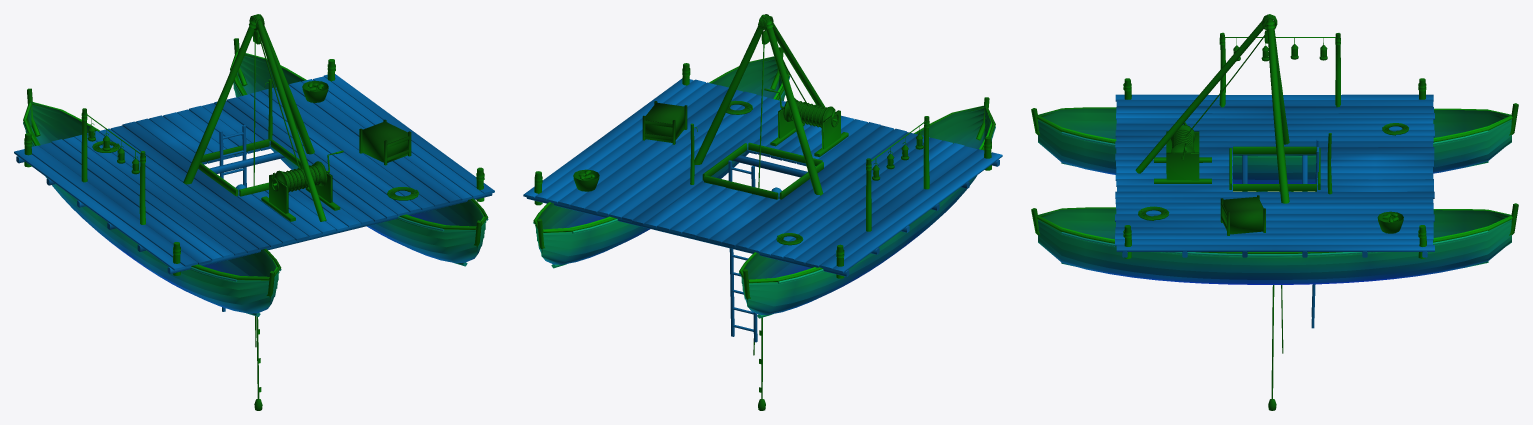
Rendered from dive_raft.glb.
3 views of the same model, side by side, from view 1: azimuth 30°, elevation 25°; view 2: azimuth 150°, elevation 25°; view 3: azimuth 270°, elevation 25° (orthographic).
Visible parts, largest first — view 1: dive_raft; view 2: dive_raft; view 3: dive_raft.
Boxes of the visible parts, left/top/right/bottom form: dive_raft: left=14, top=14, right=494, bottom=410; dive_raft: left=523, top=14, right=1002, bottom=410; dive_raft: left=1031, top=14, right=1518, bottom=410.
Size of what is drawn, in the model's own units: 7 by 8.26 by 9.27.
